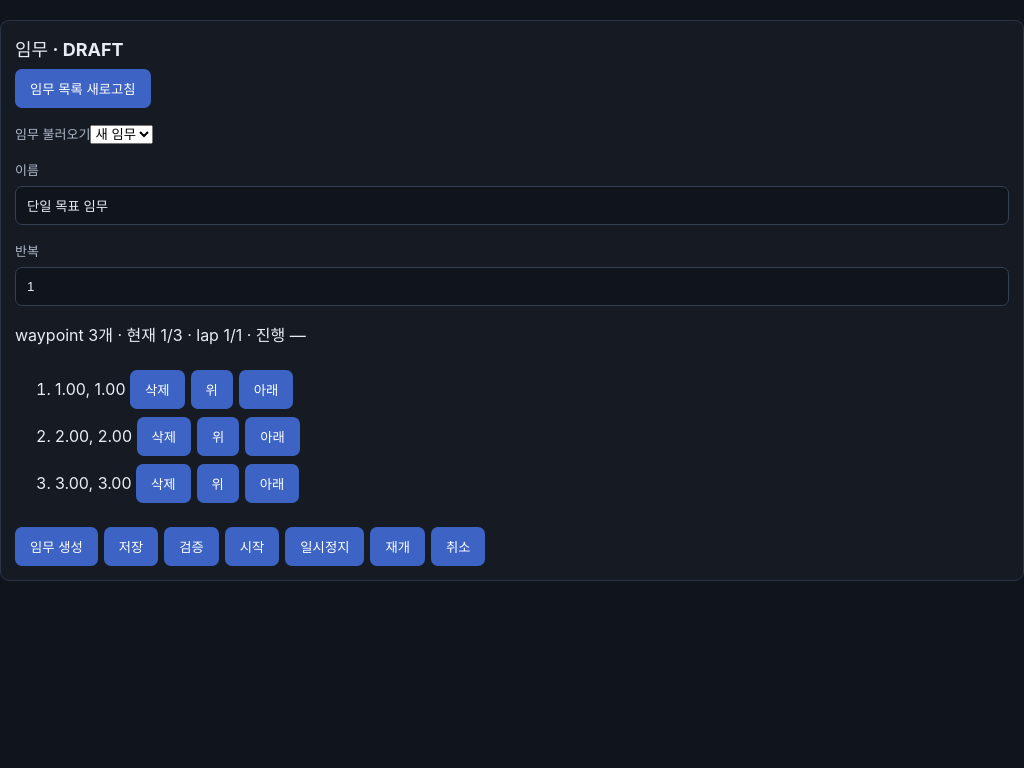
Test: adds three map waypoints and supports reorder/delete
expect the text with test id "mission-progress" shows "waypoint 3개": met, box [15,325,306,345]
Click the 1st button "아래" at coordinates (266, 390), box [239,370,293,409]
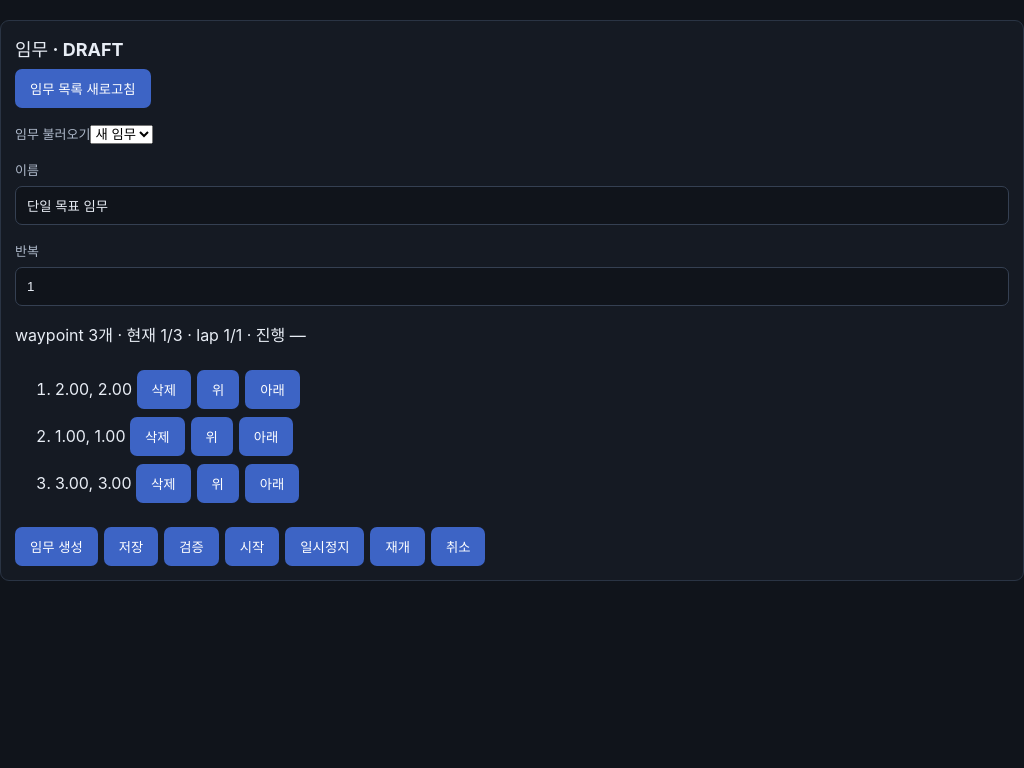
Click the 2nd button "삭제" at coordinates (157, 436), box [130,417,184,456]
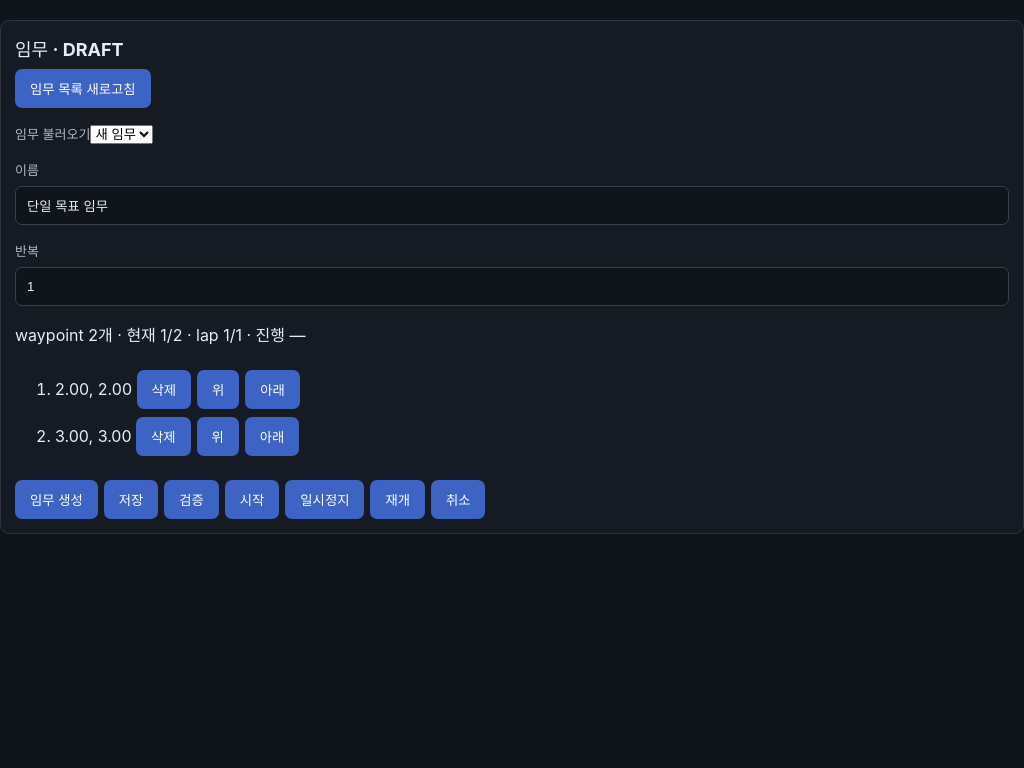
expect the text with test id "mission-progress" shows "waypoint 2개": met, box [15,325,306,345]
